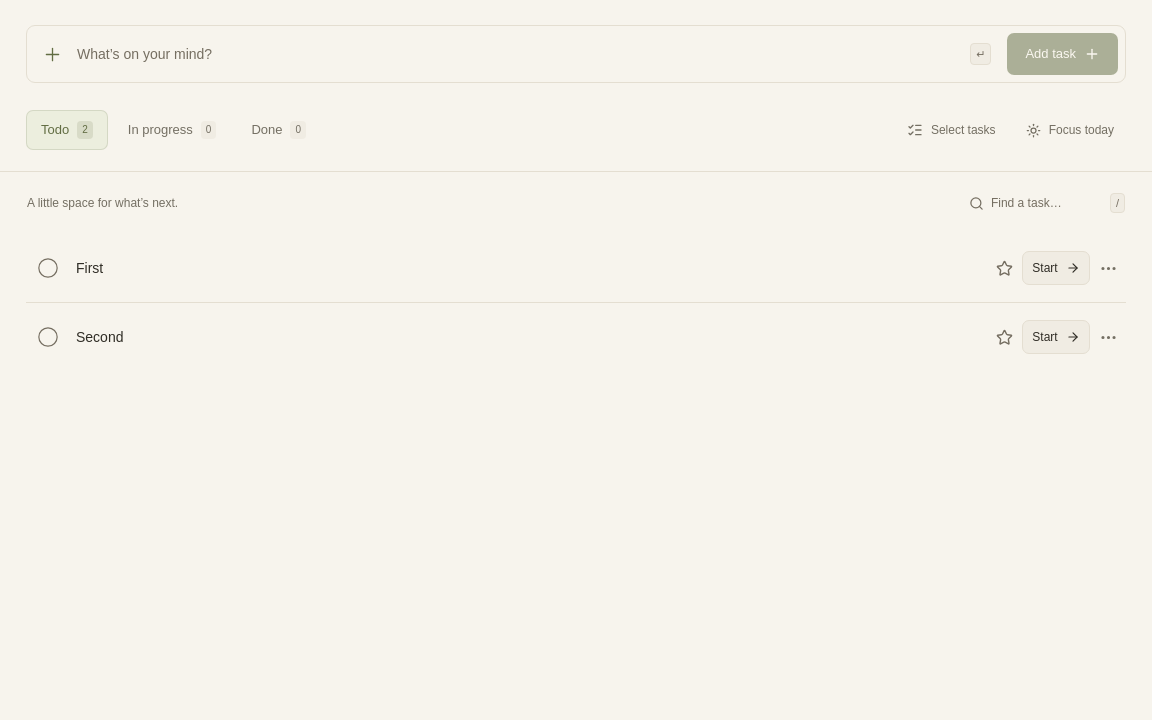
Test: restores the rows and selection after a failed bulk delete
The width and height of the screenshot is (1152, 720).
Click the button "Select tasks". click: click(951, 130)
box: [895,108,1008,152]
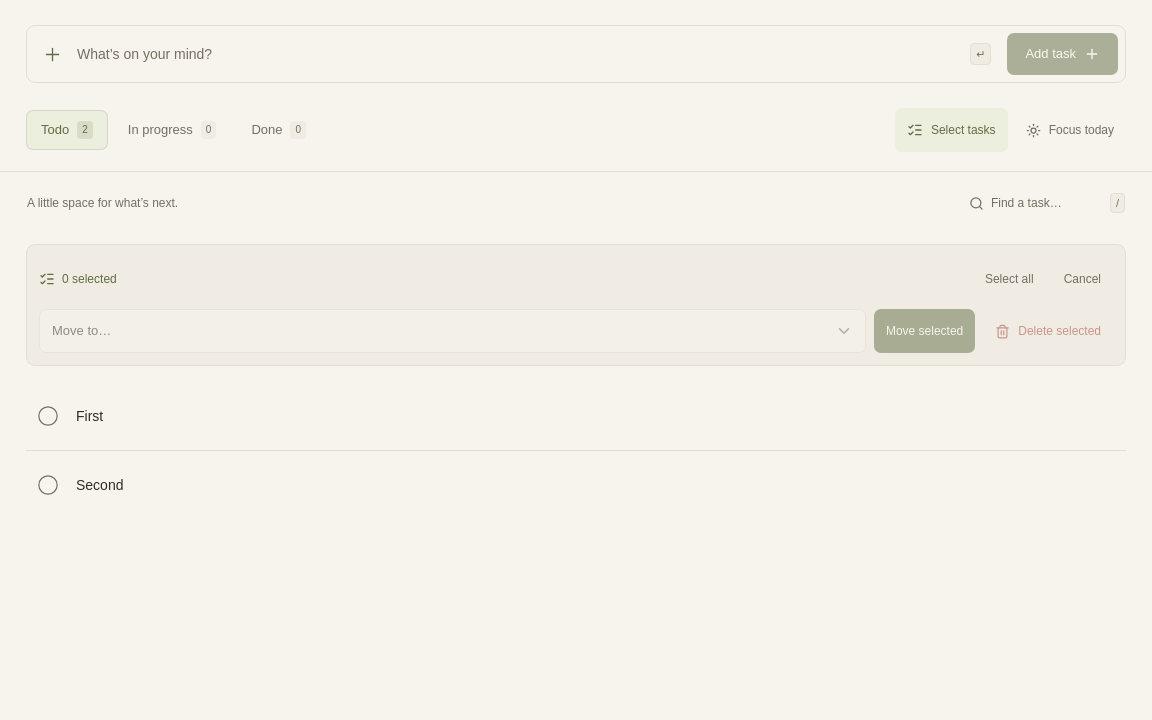
Click the button "Select all". click: click(1009, 279)
box: [973,257,1046,301]
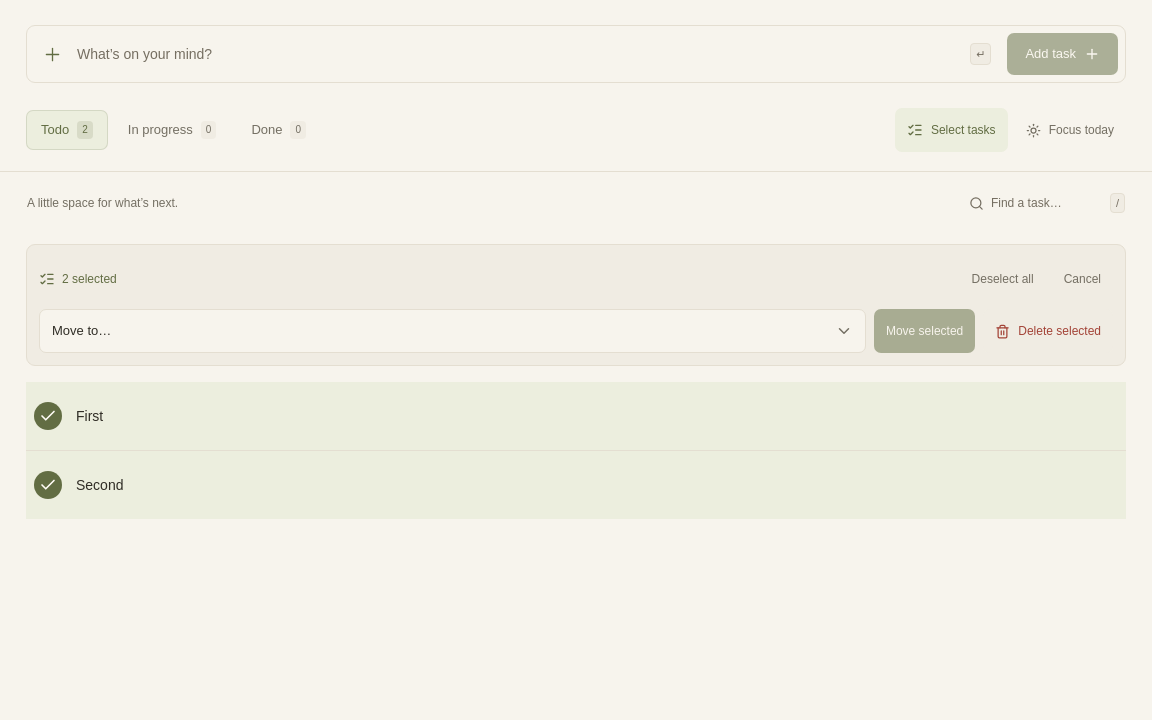
Click the button "Delete selected". click: click(1048, 331)
box: [983,309,1113,353]
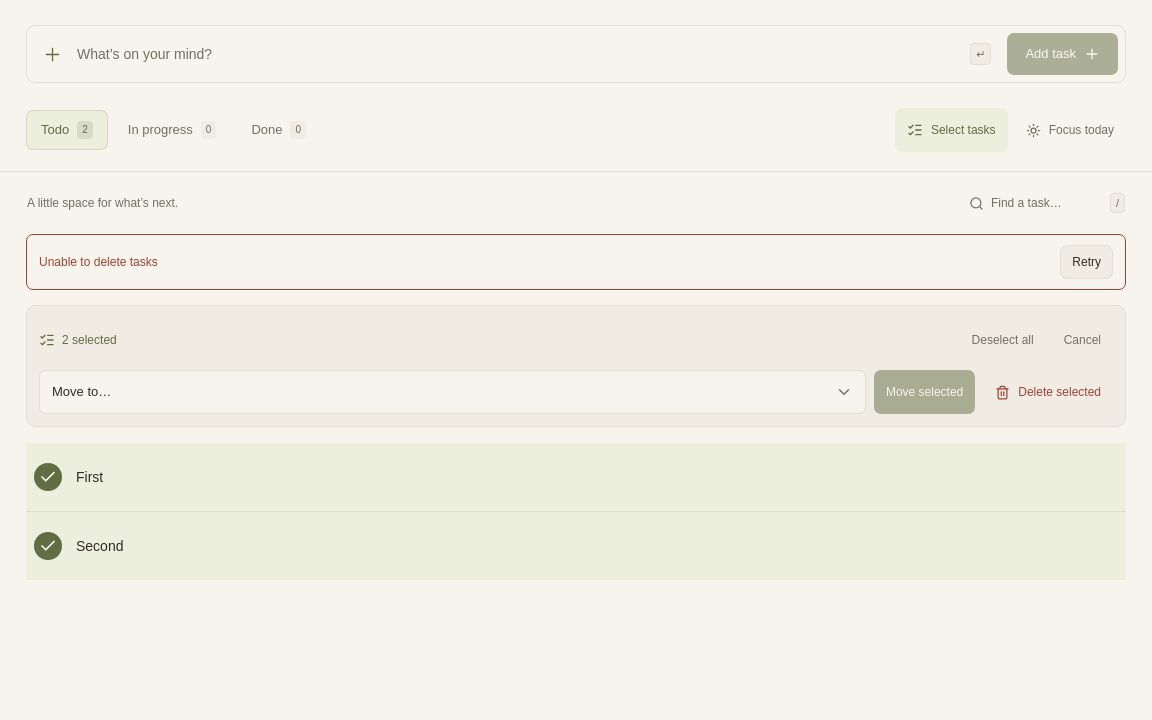
Expected: the message "Unable to delete tasks Retry" is shown, [26,234,1126,290]
